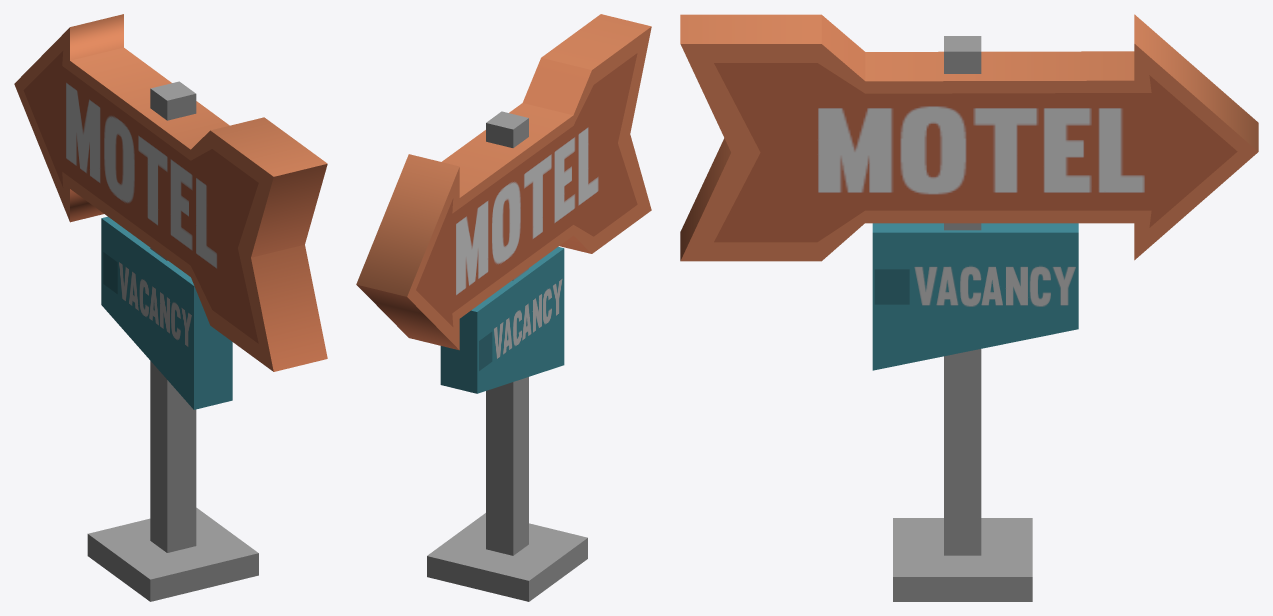
File: SA_Bld_Motel_Sign_01.gltf
The picture shows the model from 3 angles, left to right: view 1: azimuth 30°, elevation 25°; view 2: azimuth 150°, elevation 25°; view 3: azimuth 270°, elevation 25°; orthographic projection. The views are drawn at different scales.
Visible parts, largest first — view 1: SA_Bld_Motel_Sign_01; view 2: SA_Bld_Motel_Sign_01; view 3: SA_Bld_Motel_Sign_01.
Part boxes in pixels (x1,y1,x2,y2): SA_Bld_Motel_Sign_01: (14,14,327,601); SA_Bld_Motel_Sign_01: (356,14,651,601); SA_Bld_Motel_Sign_01: (680,14,1258,601).
Bounding box in the file's own units: 2.56 × 11.03 × 10.62.
Materials: 1 (1 with a texture image).
